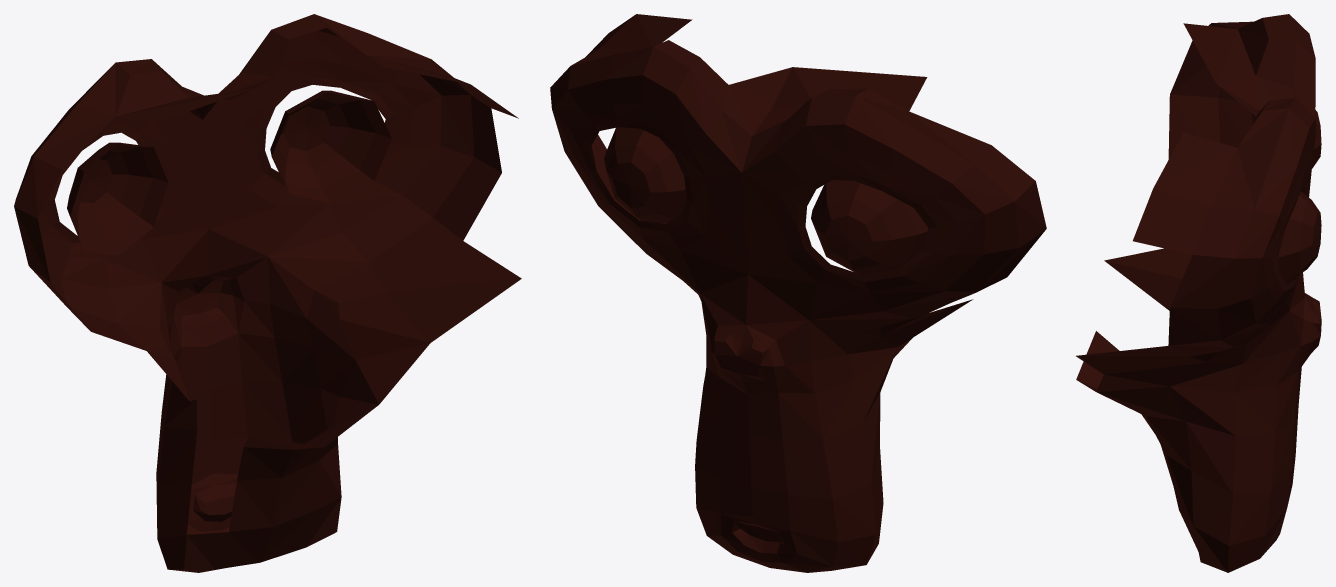
Rendered from sample.obj.
3 views of the same model, side by side, from view 1: azimuth 30°, elevation 25°; view 2: azimuth 150°, elevation 25°; view 3: azimuth 270°, elevation 25° (orthographic). The views are drawn at different scales.
Visible parts, largest first — view 1: Suzanne; view 2: Suzanne; view 3: Suzanne.
Part boxes in pixels (x1,y1,x2,y2): Suzanne: (14,14,521,572); Suzanne: (550,14,1046,572); Suzanne: (1076,14,1321,572).
Bounding box in the file's own units: 1.51 × 1.6 × 0.7279.
